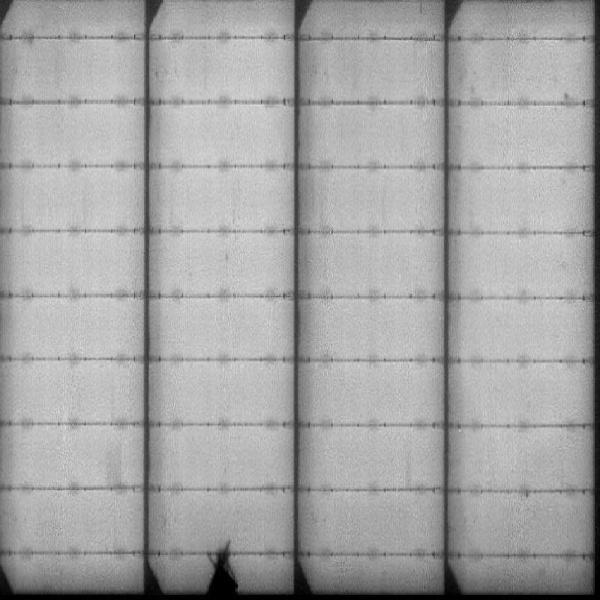broken: (205, 542, 246, 591)
